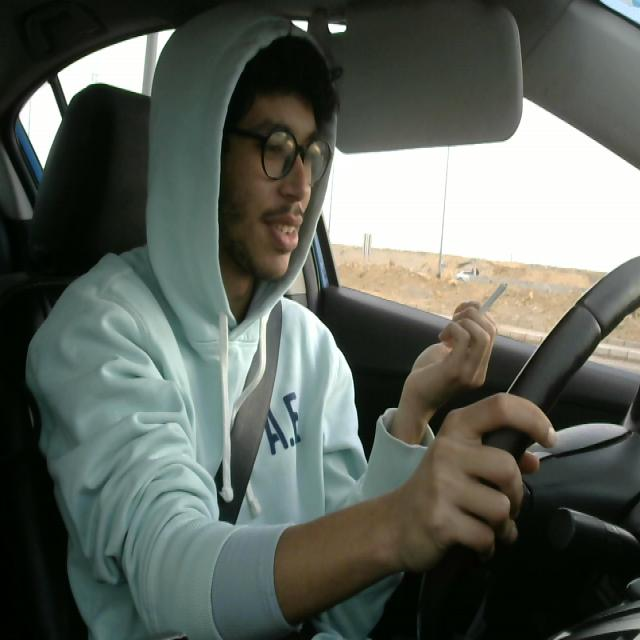smoking: (461, 273, 511, 341)
